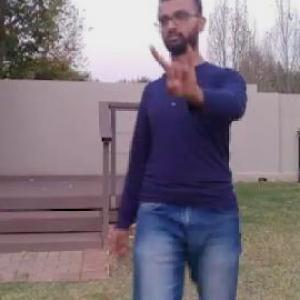takeoff-hand: (144, 36, 206, 103)
